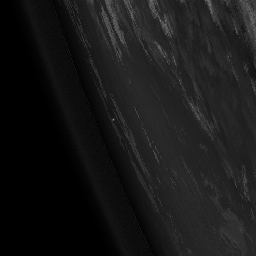Target: (110, 118, 115, 122)
